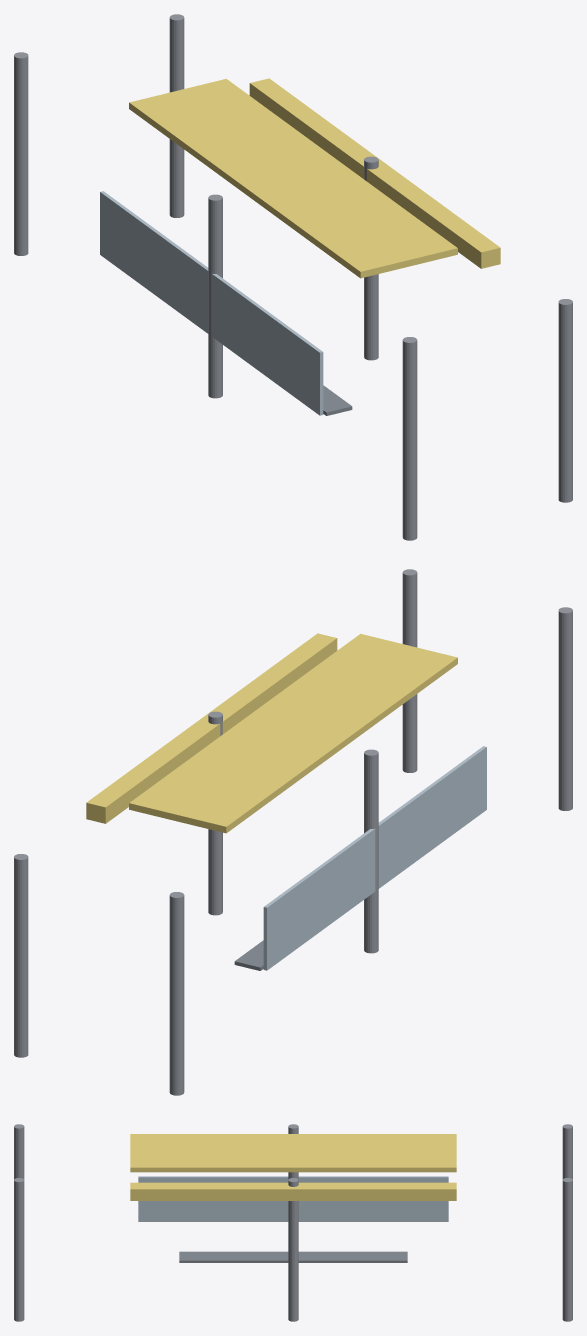
Rendered from bus_stand.glb.
3 views of the same model, one above another, from view 1: azimuth 30°, elevation 25°; view 2: azimuth 150°, elevation 25°; view 3: azimuth 270°, elevation 25° (orthographic). The views are drawn at different scales.
Parts seen in each view (by area): view 1: canopy, backwall, fascia, post2, post, post2.002, post.002, post2.001, post.001; view 2: canopy, backwall, fascia, post2.002, post2, post.002, post, post2.001, post.001; view 3: canopy, backwall, fascia, bench, post, post.002, post.001, post2, post2.002.
Part boxes in pixels (x1,y1,x2,y2): canopy: (129,78,457,278); backwall: (100,191,323,415); fascia: (249,78,500,268); post2: (402,337,417,540); post: (558,299,572,502); post2.002: (14,52,28,255); post.002: (169,14,184,217); post2.001: (208,194,222,398); post.001: (364,156,378,360); canopy: (129,633,457,833); backwall: (263,746,486,970); fascia: (86,633,337,823); post2.002: (169,892,184,1095); post2: (558,607,572,810); post.002: (14,854,28,1057); post: (402,569,417,772); post2.001: (364,749,378,953); post.001: (208,711,222,915); canopy: (130,1134,456,1172); backwall: (138,1176,448,1221); fascia: (130,1182,456,1200); bench: (179,1251,407,1262); post: (14,1178,24,1321); post.002: (562,1178,572,1321); post.001: (288,1178,298,1321); post2: (14,1124,24,1179); post2.002: (562,1124,572,1179).
Size of the model in its own units: 3.07 by 3.36 by 11.98.
